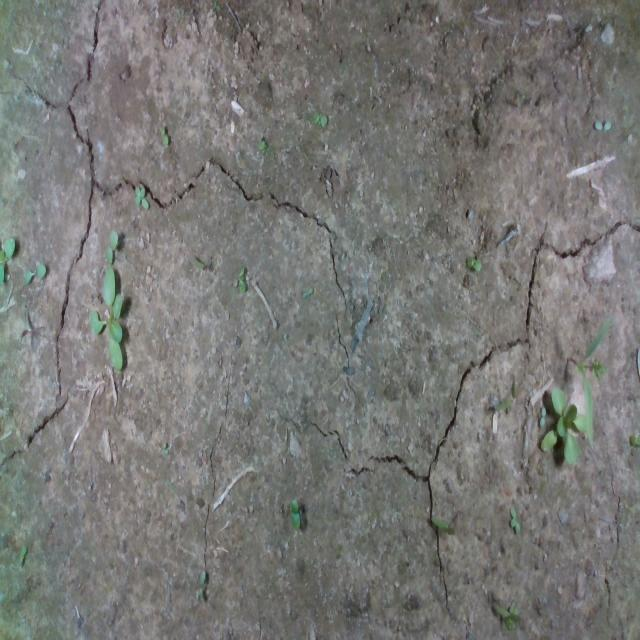weed: (129, 180, 151, 214), (287, 497, 305, 532), (21, 260, 47, 284), (508, 500, 522, 534), (105, 229, 119, 263), (233, 264, 249, 289), (466, 252, 482, 272), (315, 110, 331, 128), (158, 124, 169, 148)
